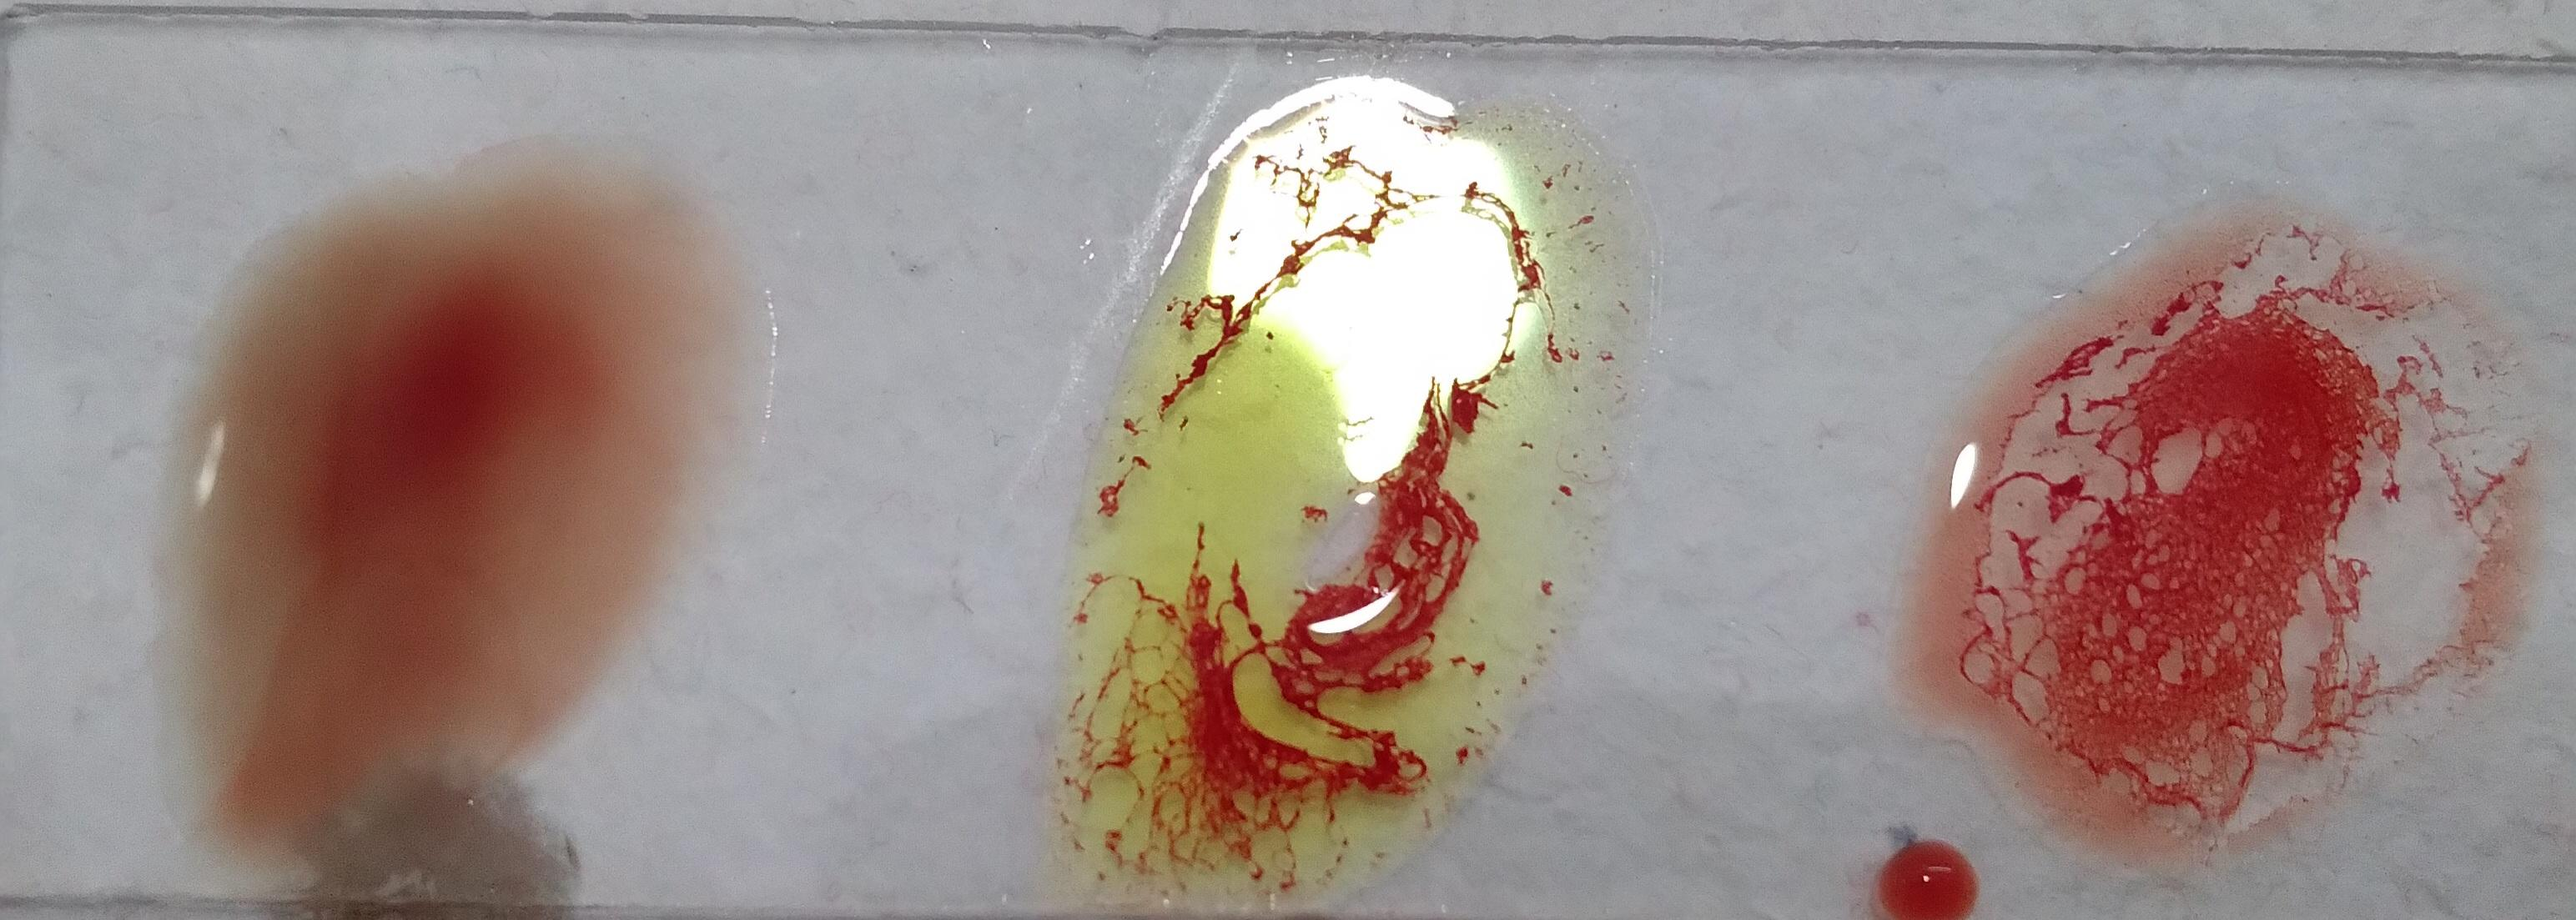B: (959, 16, 1474, 843)
D: (85, 44, 634, 734)
